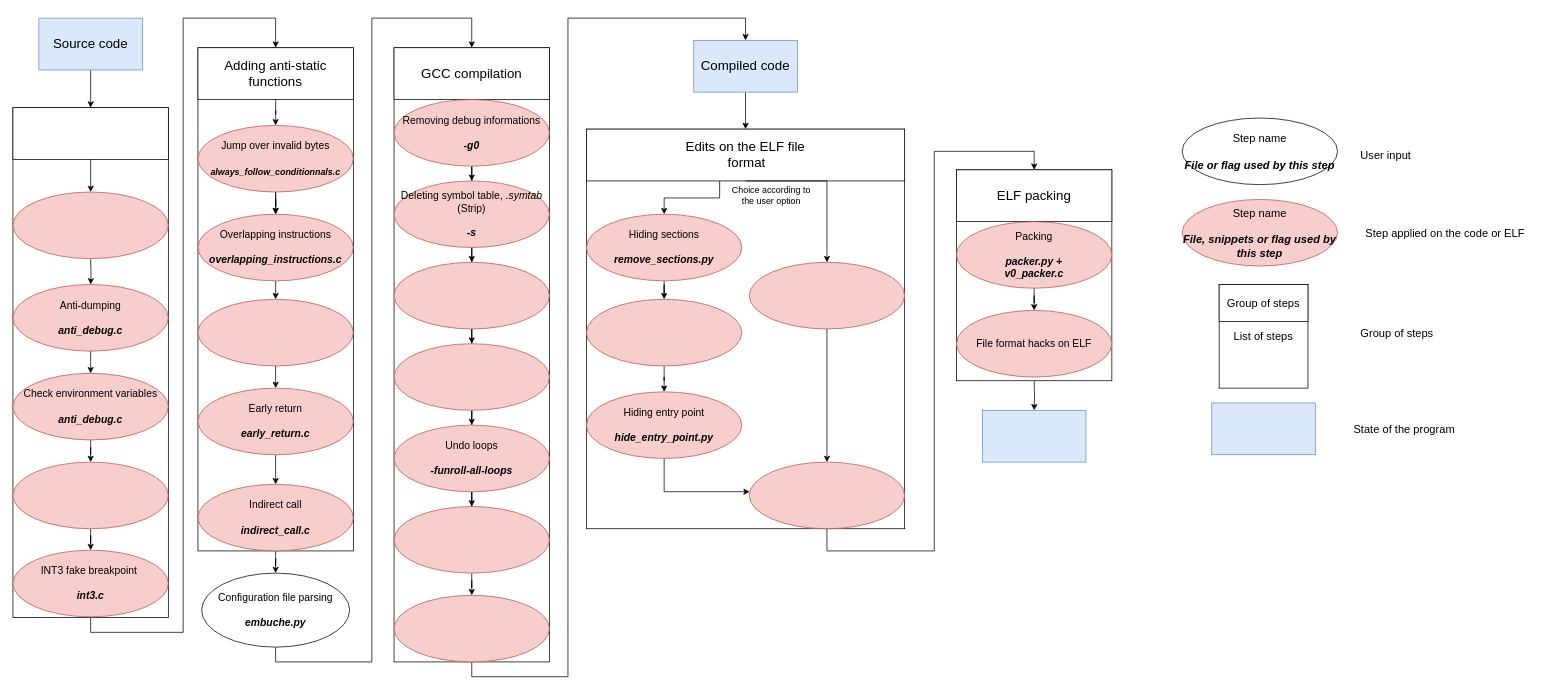
Image size: 1554x696. Some labels were removed from this diagram. The centre of each missing label's shape, as x and y in pixels:
"Adding anti-debug functions" belongs at pixel 90 133.
"Debugger check (PID, PPID, FD) anti_debug.c" belongs at pixel 90 495.
"Final Program" belongs at pixel 1034 436.
"Flipping sections flags flip_sections_flags.py" belongs at pixel 664 332.
"GCC flags defined by the user" belongs at pixel 471 628.
"Hiding .dynsym table -fvisibility" belongs at pixel 471 295.
"Little to big endian endianness_changer.py" belongs at pixel 827 495.
"Mixing symbols ( .dynsym ) mixing_symbols.py" belongs at pixel 827 295.
"Optimization -O" belongs at pixel 471 376.
"Ptrace detection anti_debug.c" belongs at pixel 90 225.
"Removing external dependencies -static" belongs at pixel 471 539.
"XOR stack string xor_stack_string.c" belongs at pixel 275 332.
